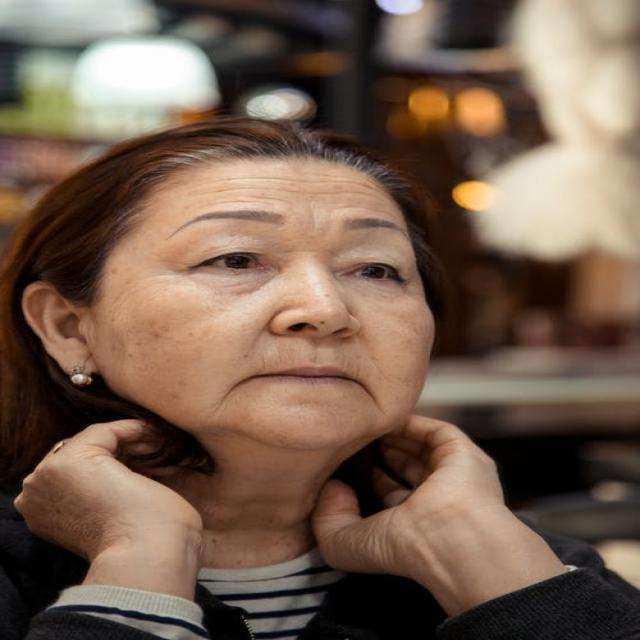Wrinkles: (188, 177, 385, 193), (365, 208, 399, 220), (248, 196, 294, 204), (272, 188, 317, 195), (317, 191, 377, 196), (197, 190, 234, 195), (214, 201, 272, 204), (234, 188, 252, 190), (337, 207, 351, 209), (351, 207, 365, 208), (256, 188, 272, 188)
